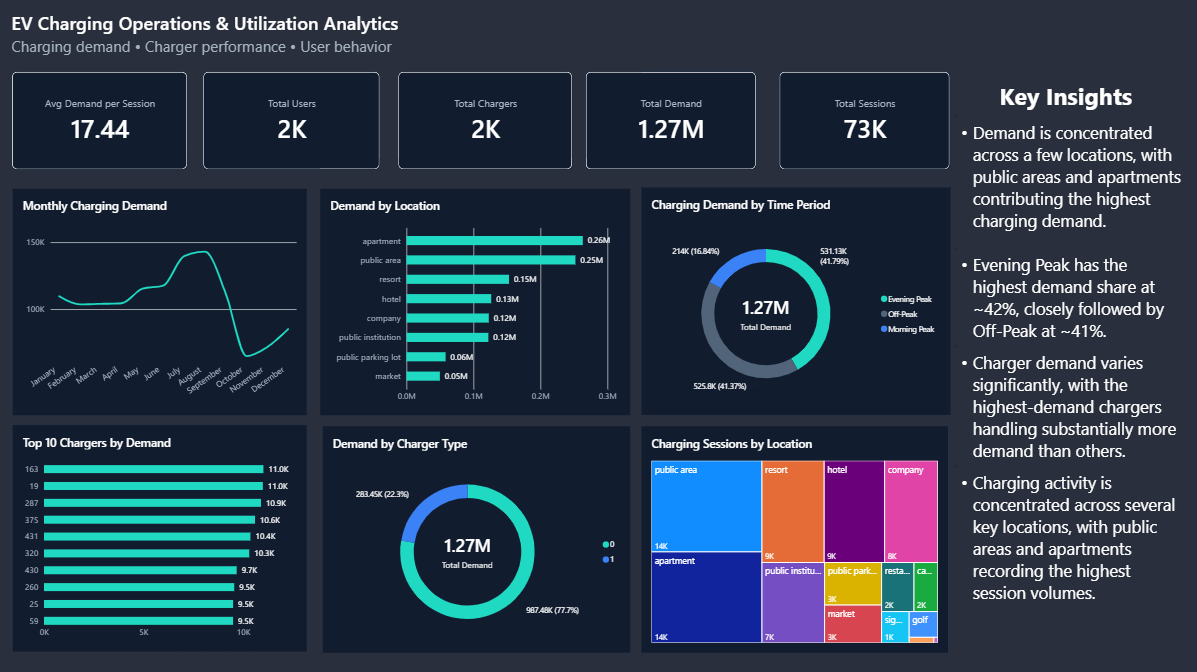

The page's visual inventory and layout, read from the dashboard file:
{"tool":"powerbi","page":{"name":"Page 1","canvas":[1920,1080],"ordinal":0},"visuals":[{"type":"cardVisual","fields":{"Data":["ev_charging charging_records.Total Sessions"]},"box":[1248,114,274,158],"z":0},{"type":"cardVisual","fields":{"Data":["ev_charging charging_records.Total Demand"]},"box":[938,114,274,158],"z":1000},{"type":"cardVisual","fields":{"Data":["ev_charging charging_records.Total Chargers"]},"box":[638,114,280,158],"z":2000},{"type":"cardVisual","fields":{"Data":["ev_charging charging_records.Total Users"]},"box":[326,114,284,158],"z":3000},{"type":"cardVisual","fields":{"Data":["ev_charging charging_records.Avg Demand per Session"]},"box":[20,114,282,158],"z":4000},{"type":"textbox","box":[20,272.5,220,150],"z":5000},{"type":"textbox","title":"EV Charging Operations & Utilization Analytics","box":[20,16,700.3,79.6],"z":6000},{"type":"lineChart","title":"Monthly Charging Demand","fields":{"Category":["ev_charging charging_records.StartDay.Variation.Date Hierarchy.Year","ev_charging charging_records.StartDay.Variation.Date Hierarchy.Quarter","ev_charging charging_records.StartDay.Variation.Date Hierarchy.Month","ev_charging charging_records.StartDay.Variation.Date Hierarchy.Day"],"Y":["ev_charging charging_records.Total Demand"]},"box":[22,302,470,362],"z":7000},{"type":"clusteredBarChart","title":"Demand by Location","fields":{"Category":["ev_charging charging_records.Location"],"Y":["ev_charging charging_records.Total Demand"]},"box":[514,302,496,362],"z":8000},{"type":"donutChart","title":"Charging Demand by Time Period","fields":{"Category":["ev_charging charging_records.Charging Period"],"Y":["ev_charging charging_records.Total Demand"]},"box":[1028,300,494,364],"z":9000},{"type":"clusteredBarChart","title":"Top 10 Chargers by Demand","fields":{"Category":["ev_charging charging_records.ChargerID"],"Y":["ev_charging charging_records.Total Demand"]},"box":[22,680,470,362],"z":10000},{"type":"donutChart","title":"Demand by Charger Type","fields":{"Category":["ev_charging charging_records.ChargerType"],"Y":["ev_charging charging_records.Total Demand"]},"box":[518,682,492,362],"z":11000},{"type":"treemap","title":"Charging Sessions by Location","fields":{"Group":["ev_charging charging_records.Location"],"Values":["ev_charging charging_records.Total Sessions"]},"box":[1028,682,490,362],"z":12000},{"type":"textbox","box":[1518,110,378,932],"z":13000}]}

Visuals, with their boxes in screenshot pixels (x1, y1, x2, y2), scaled from the page's 1920x1080 canvas onto the 1197x672 screenshot:
cardVisual - ev_charging charging_records.Total Sessions: <box>778,71,949,169</box>
cardVisual - ev_charging charging_records.Total Demand: <box>585,71,756,169</box>
cardVisual - ev_charging charging_records.Total Chargers: <box>398,71,572,169</box>
cardVisual - ev_charging charging_records.Total Users: <box>203,71,380,169</box>
cardVisual - ev_charging charging_records.Avg Demand per Session: <box>12,71,188,169</box>
textbox: <box>12,170,150,263</box>
"EV Charging Operations & Utilization Analytics" textbox: <box>12,10,449,59</box>
"Monthly Charging Demand" lineChart: <box>14,188,307,413</box>
"Demand by Location" clusteredBarChart: <box>320,188,630,413</box>
"Charging Demand by Time Period" donutChart: <box>641,187,949,413</box>
"Top 10 Chargers by Demand" clusteredBarChart: <box>14,423,307,648</box>
"Demand by Charger Type" donutChart: <box>323,424,630,650</box>
"Charging Sessions by Location" treemap: <box>641,424,946,650</box>
textbox: <box>946,68,1182,648</box>
